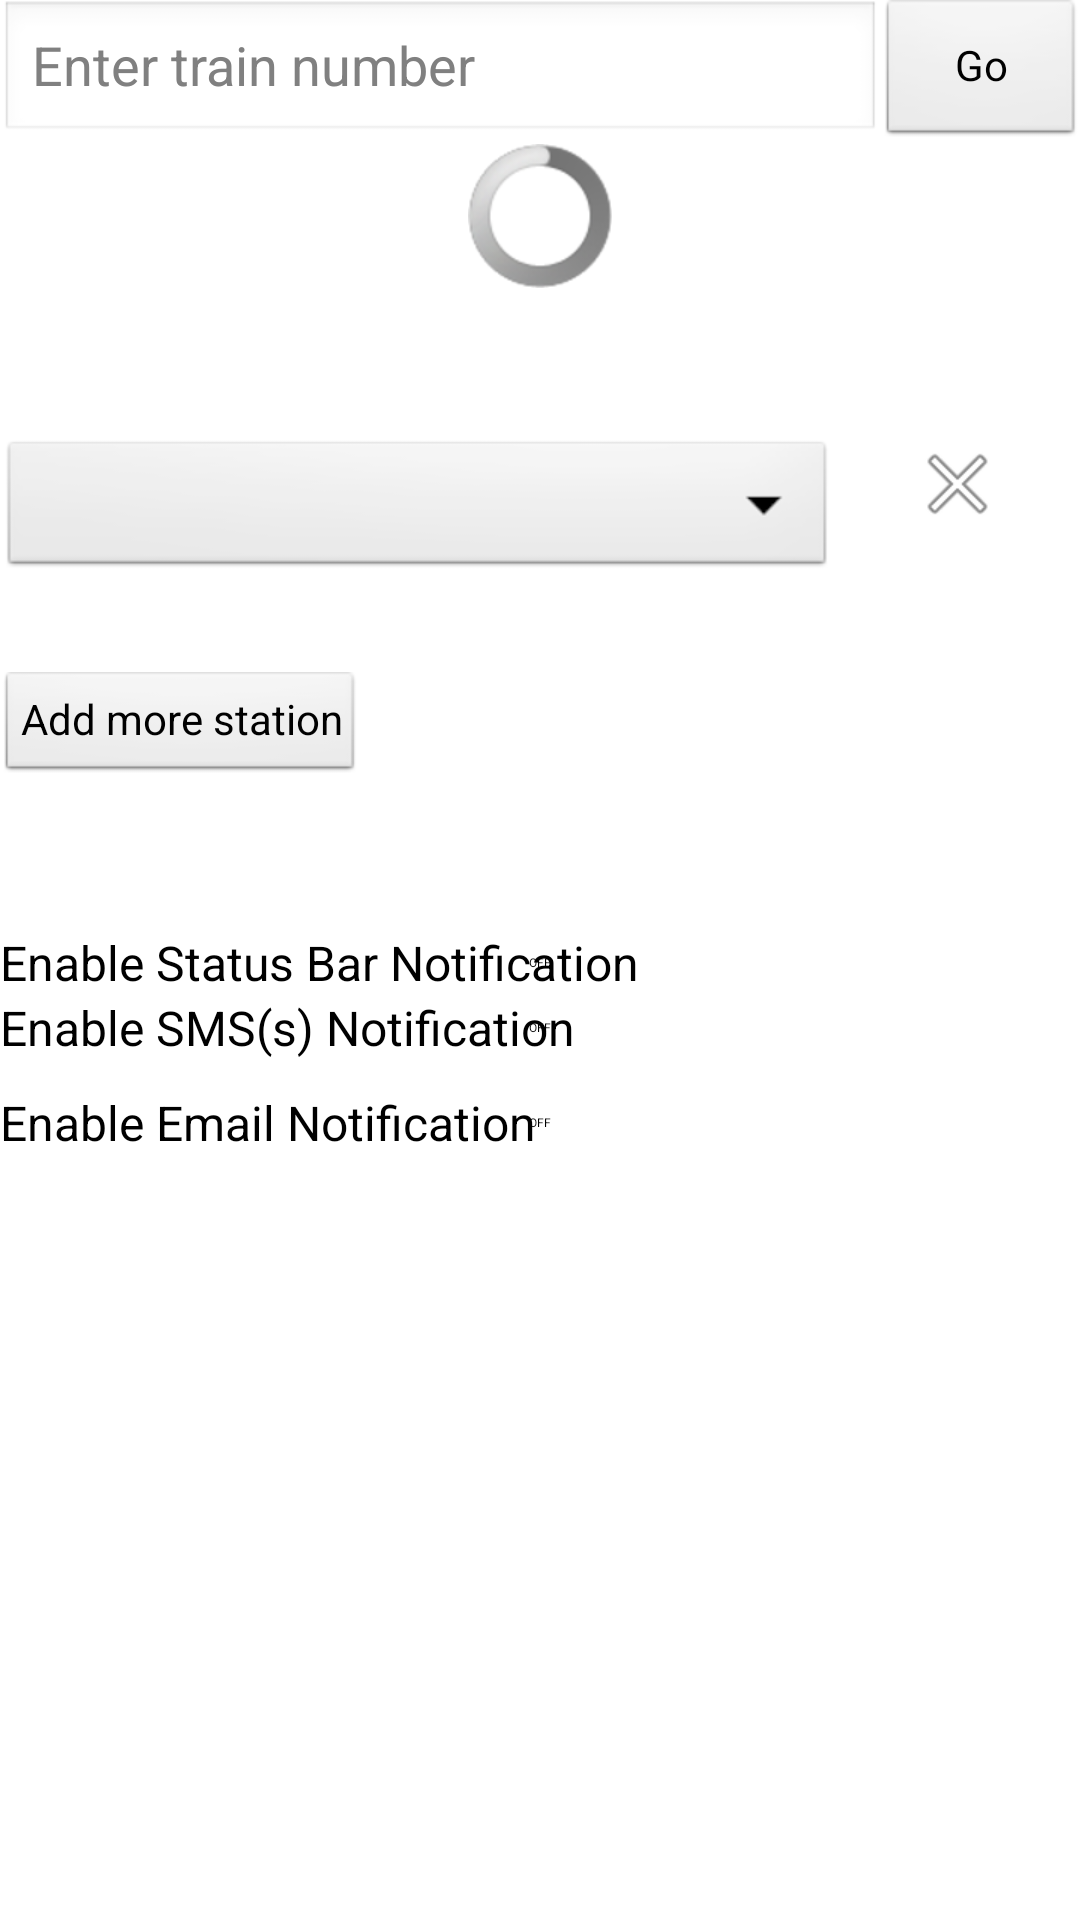

Icon bounding boxes for this 1080 x 1920 phone screenshot, format (x1, y1, x2, y2):
close clear cancel: (927, 454, 988, 514)
